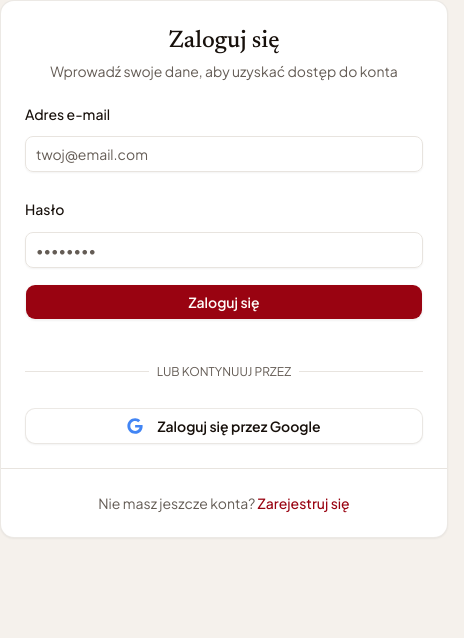
Test: app/login/_components/SignIn › displays dedicated alert when account was registered via Google (OAuthAccountOnly)
Type "google.user@example.com" into the field labelled "Adres e-mail" at (224, 154), box [25,136,423,172]
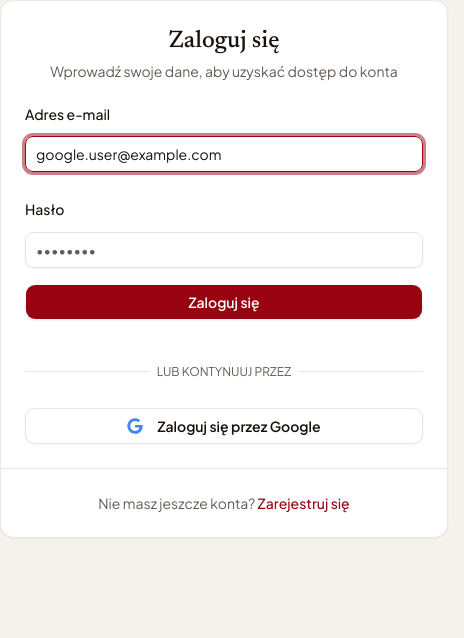
Type "password123" into the password field labelled "Hasło" at (224, 250), box [25,232,423,268]
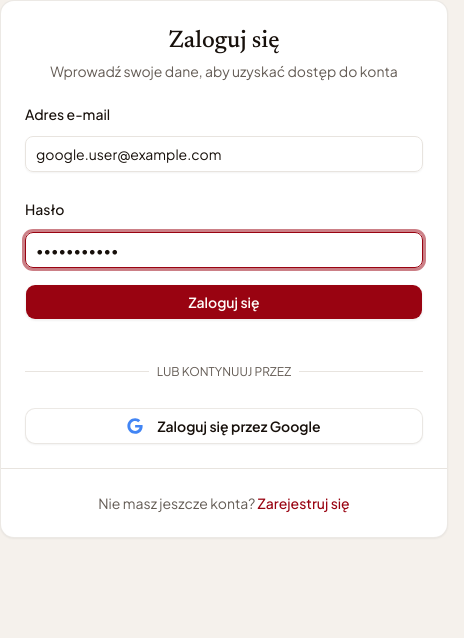
Click the button "Zaloguj się" at (224, 302), box [25,284,423,320]
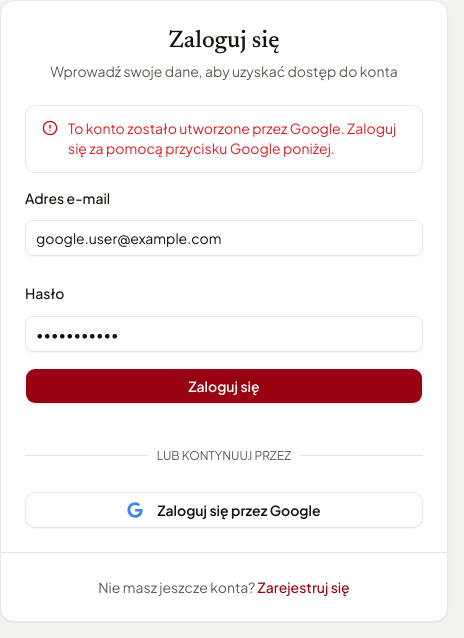
Expected: the message is shown, [25,105,423,173]
Expected: the text "To konto zostało utworzone przez Google. Zaloguj się za pomocą przycisku Google poniżej." is shown, [68,119,396,157]
